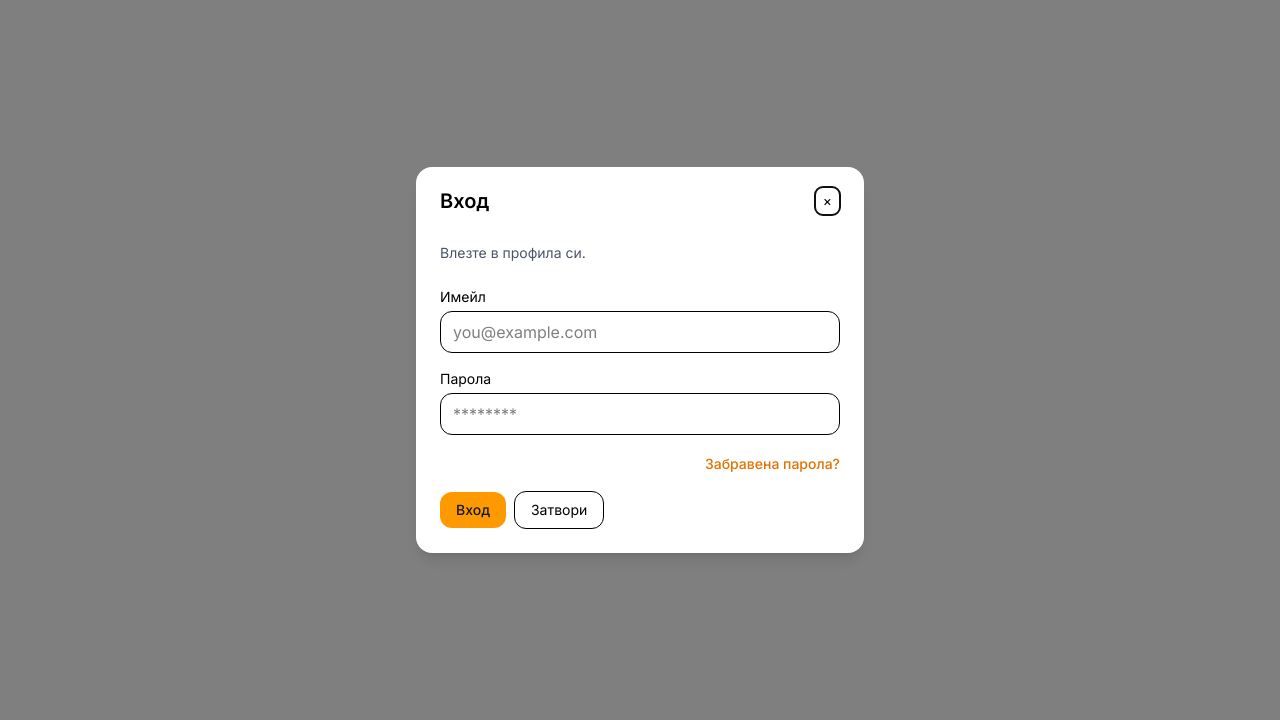
Scenario: Login Flow › should show error when password is missing
In the field labelled "Имейл": [640, 332] box [440,311,840,353], type "test@example.com"
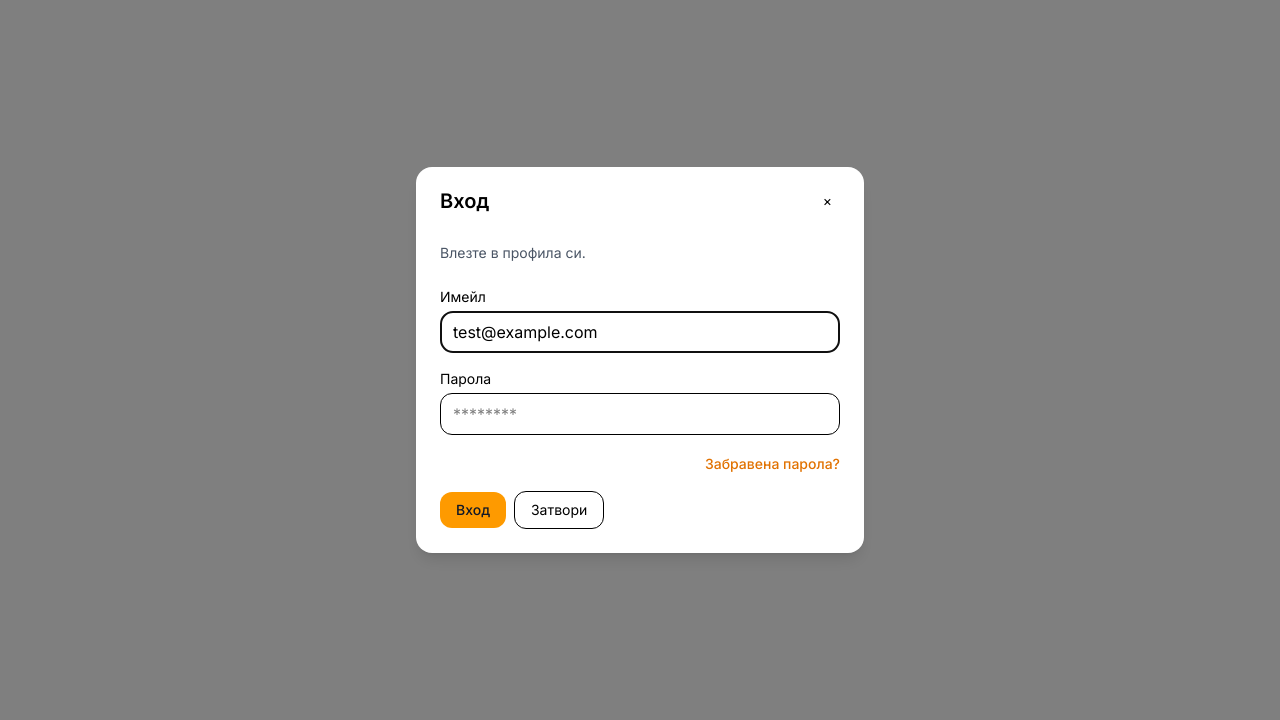
Click the button "Вход": [473, 510] box [440,492,506,528]
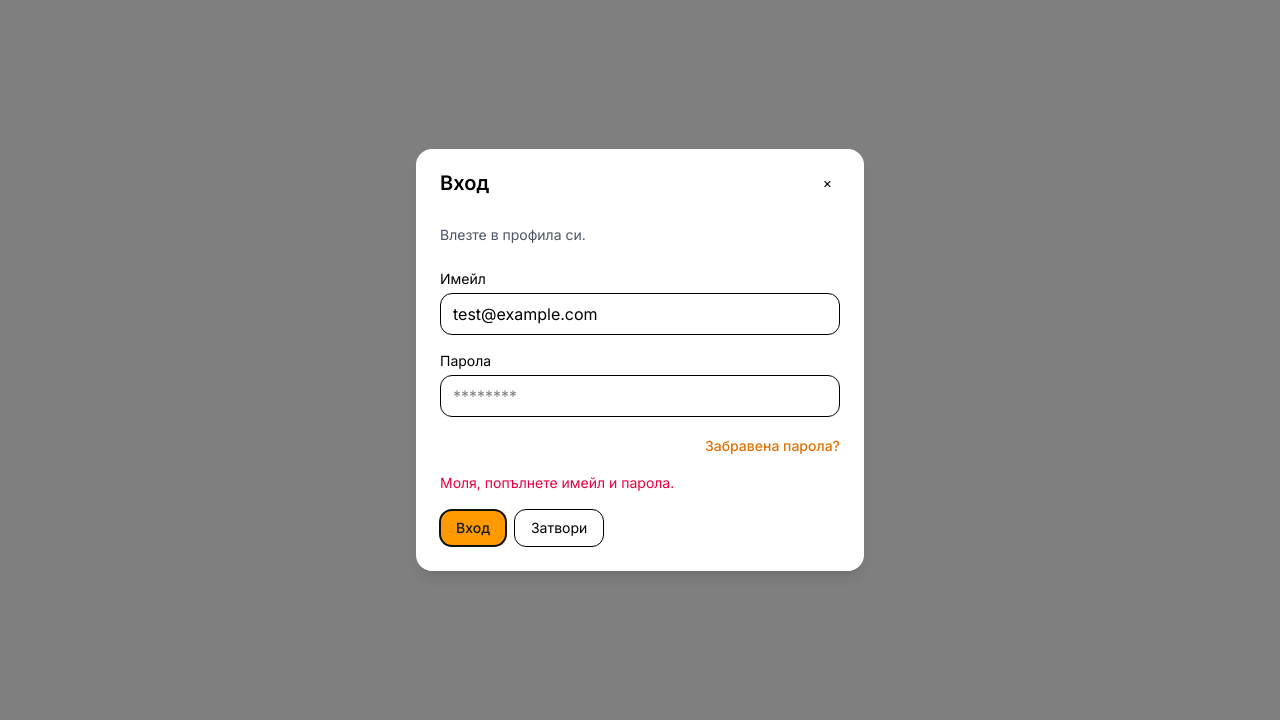
Check: the text "Моля, попълнете имейл и парола." is shown, box [440,474,674,491]
